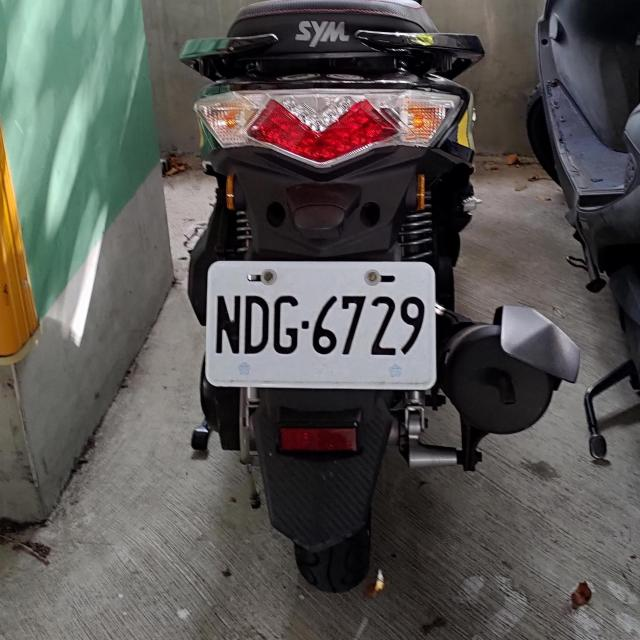W: (204, 256, 433, 390)
